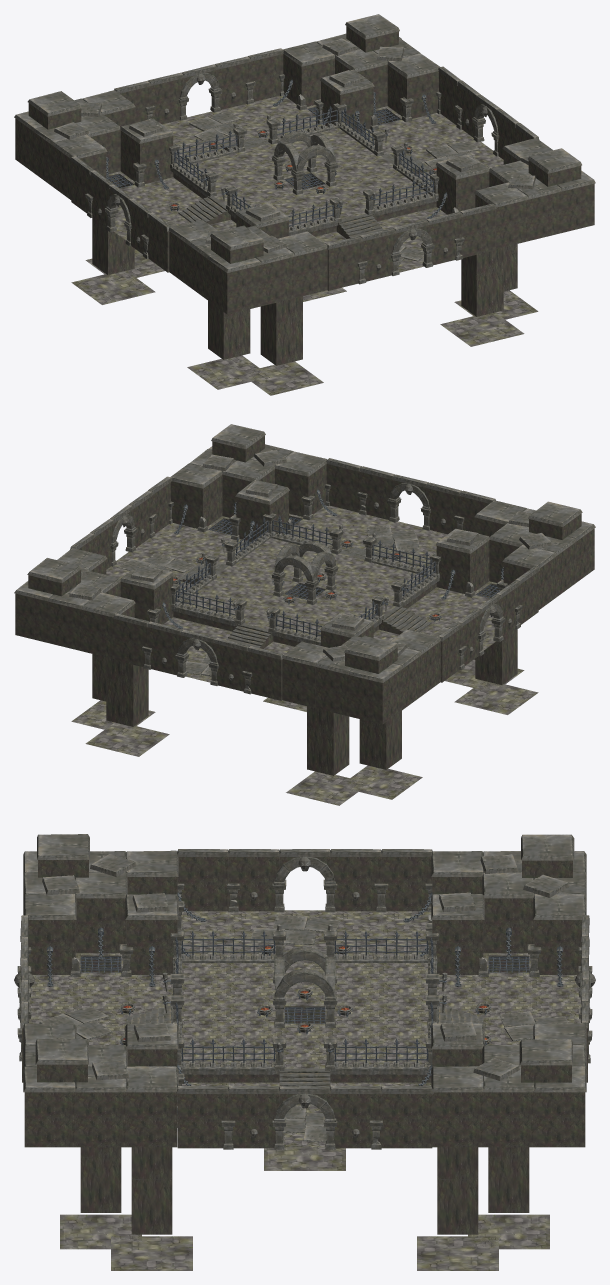
Rendered from room_01.obj.
3 renders of one model, top to bottom at view 1: azimuth 30°, elevation 25°; view 2: azimuth 150°, elevation 25°; view 3: azimuth 270°, elevation 25°, orthographic. The views are drawn at different scales.
Visible parts, largest first — view 1: room_01; view 2: room_01; view 3: room_01.
Part boxes in pixels (x1,y1,x2,y2): room_01: (14, 14, 595, 395); room_01: (14, 424, 595, 805); room_01: (14, 834, 595, 1270).
Size of the model in its own units: 114 by 47.62 by 114.
